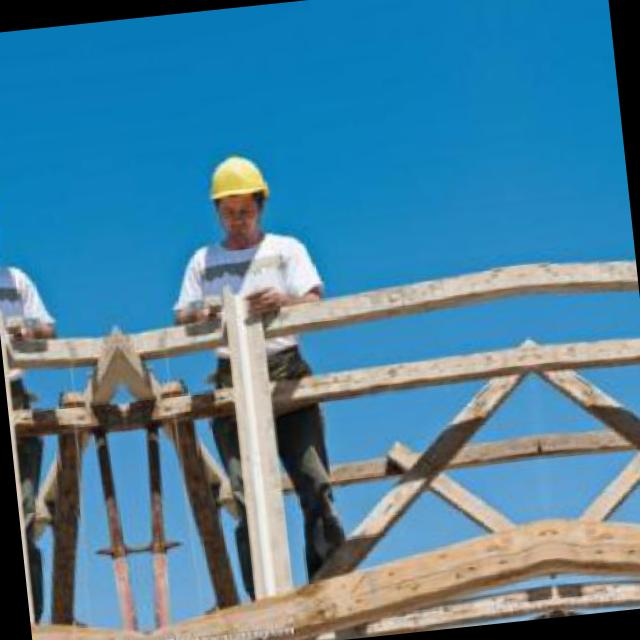helmet: (193, 140, 277, 244), (0, 168, 9, 268)
